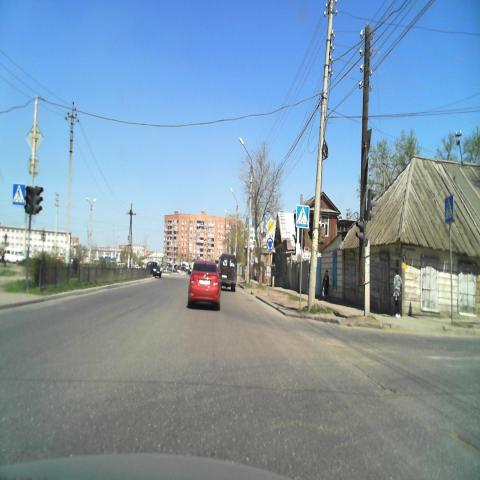4_3: (266, 238, 274, 252)
